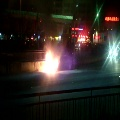fire: (38, 50, 59, 74)
